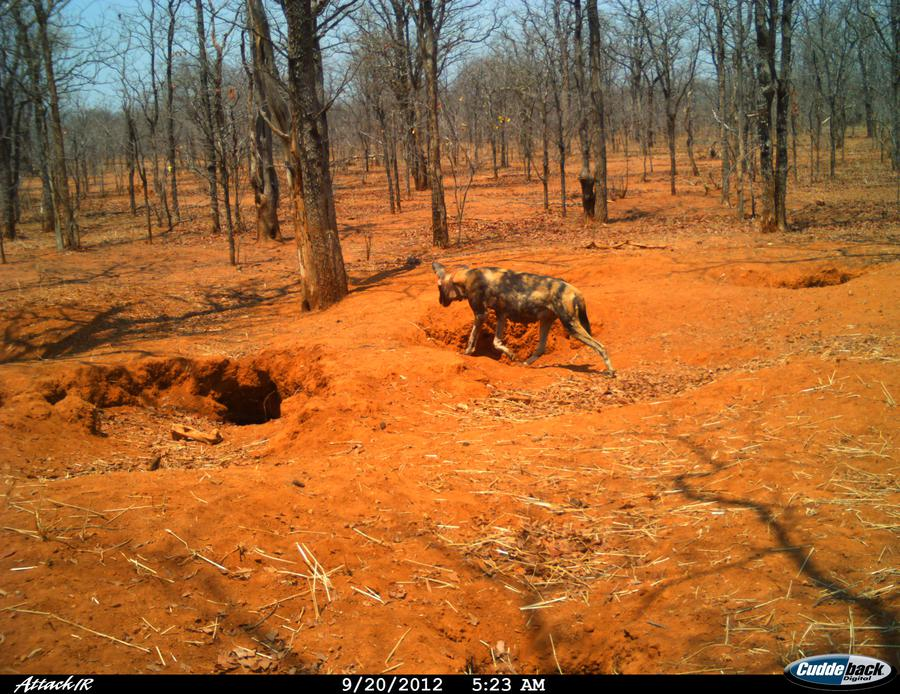wilddog: (415, 252, 610, 376)
